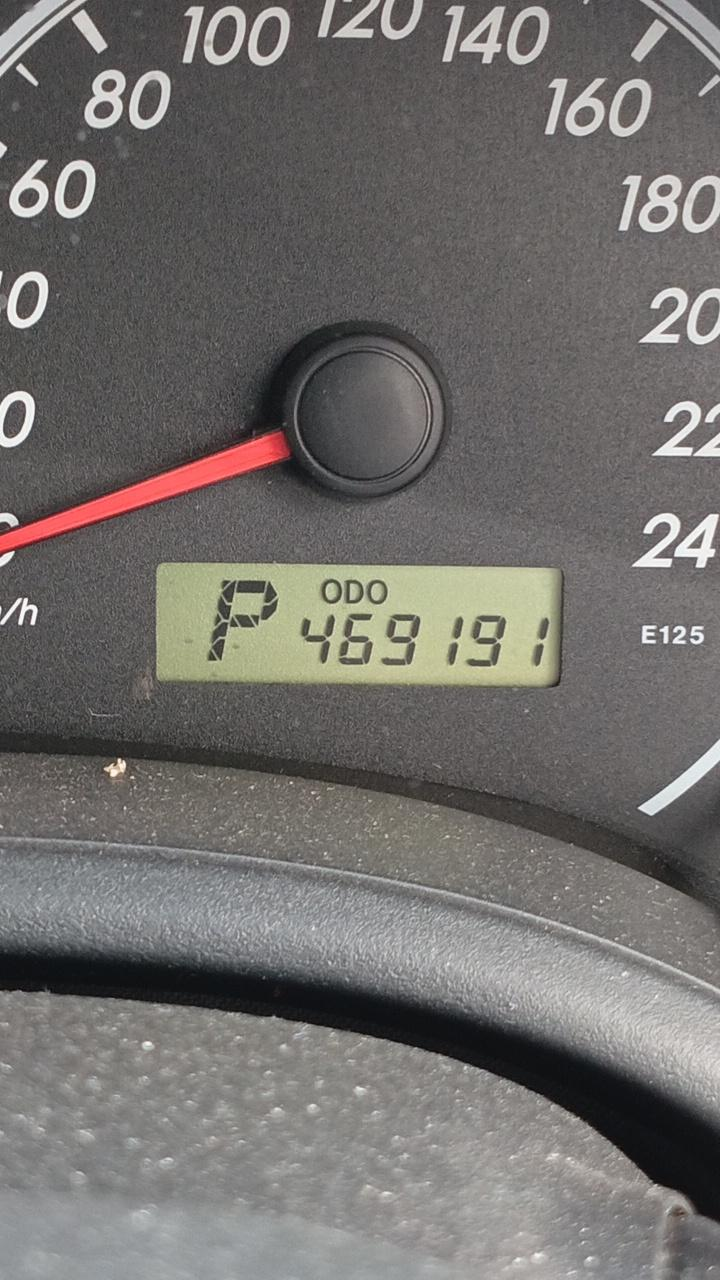1: (531, 617, 551, 670), (446, 616, 464, 667)
4: (300, 614, 336, 666)
6: (338, 612, 375, 666)
9: (465, 614, 507, 668), (380, 613, 421, 666)
X: (205, 578, 280, 664), (366, 580, 389, 605), (320, 578, 342, 604), (344, 579, 364, 605)
odometer: (153, 561, 566, 692)
